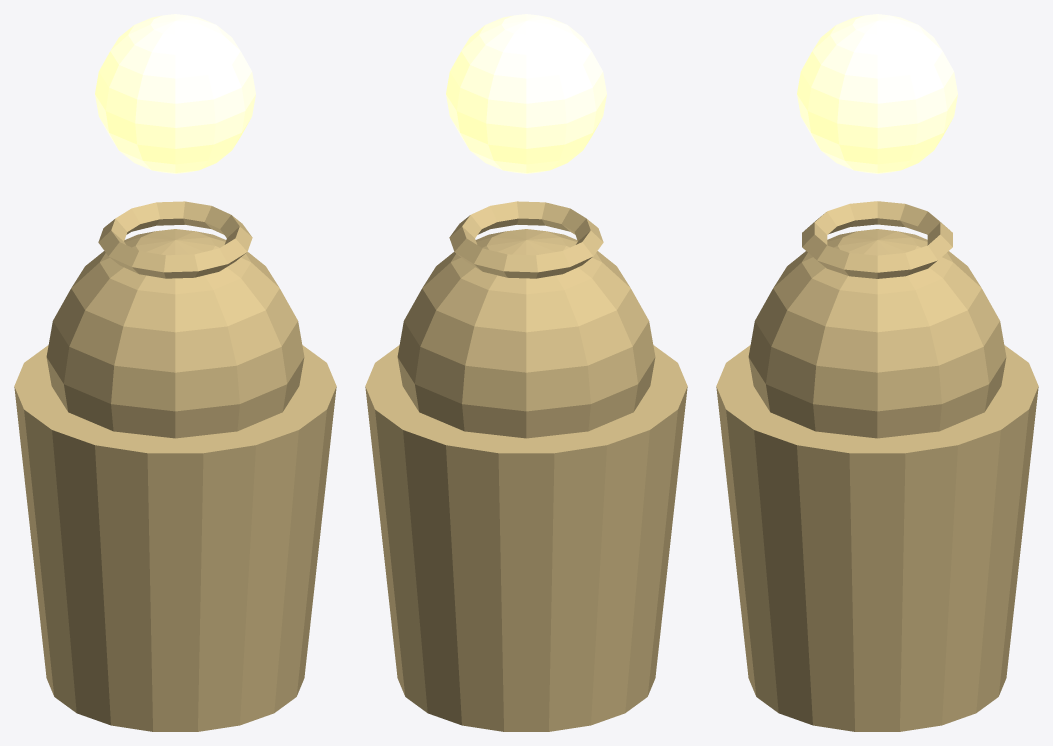
File: TuningBell_Mid.fbx
The picture shows the model from 3 angles, left to right: view 1: azimuth 30°, elevation 25°; view 2: azimuth 150°, elevation 25°; view 3: azimuth 270°, elevation 25°; orthographic projection.
Visible parts, largest first — view 1: TuningBell_Mid; view 2: TuningBell_Mid; view 3: TuningBell_Mid.
Part boxes in pixels (bbox=[...]): TuningBell_Mid: bbox=[14, 14, 336, 731]; TuningBell_Mid: bbox=[365, 14, 687, 731]; TuningBell_Mid: bbox=[716, 14, 1038, 731].
Bounding box in the file's own units: 19.7 × 45 × 20.
